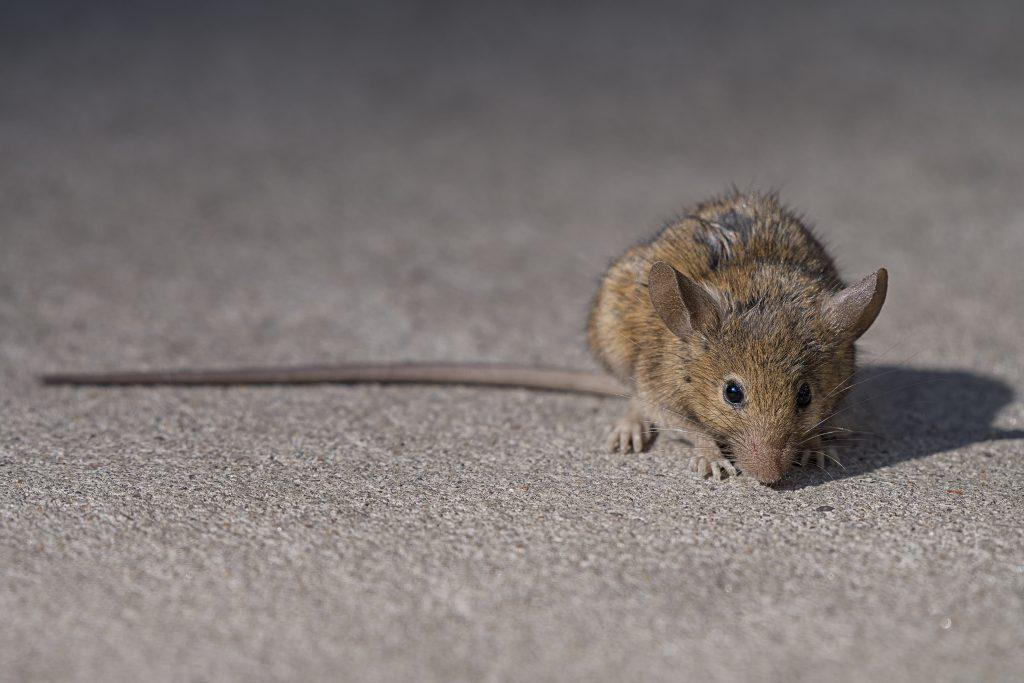rat: (40, 198, 890, 484)
